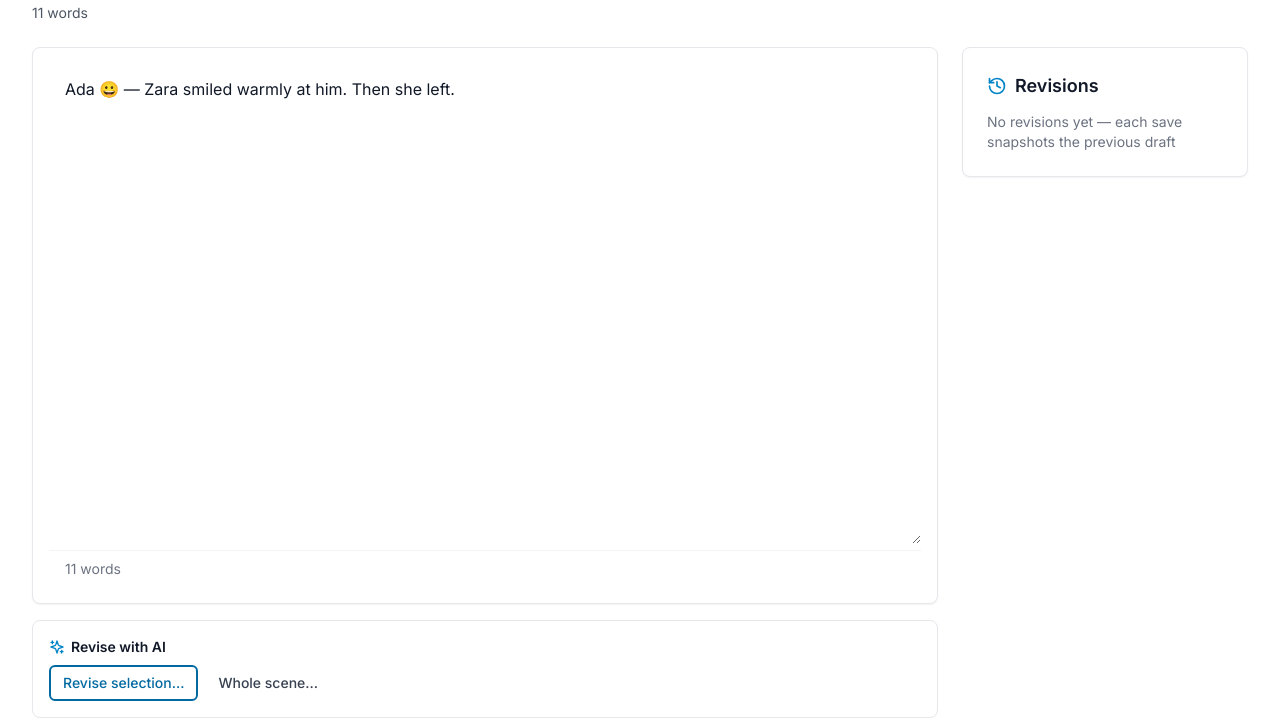
Test: Revise from the scene editor (SPEC-25, W2-3) › renders the server message for a stale base (409)
(page scrolled)
Click the button "Revise selection…" at x=124, y=683, box 49,665 -> 198,701
(page scrolled)
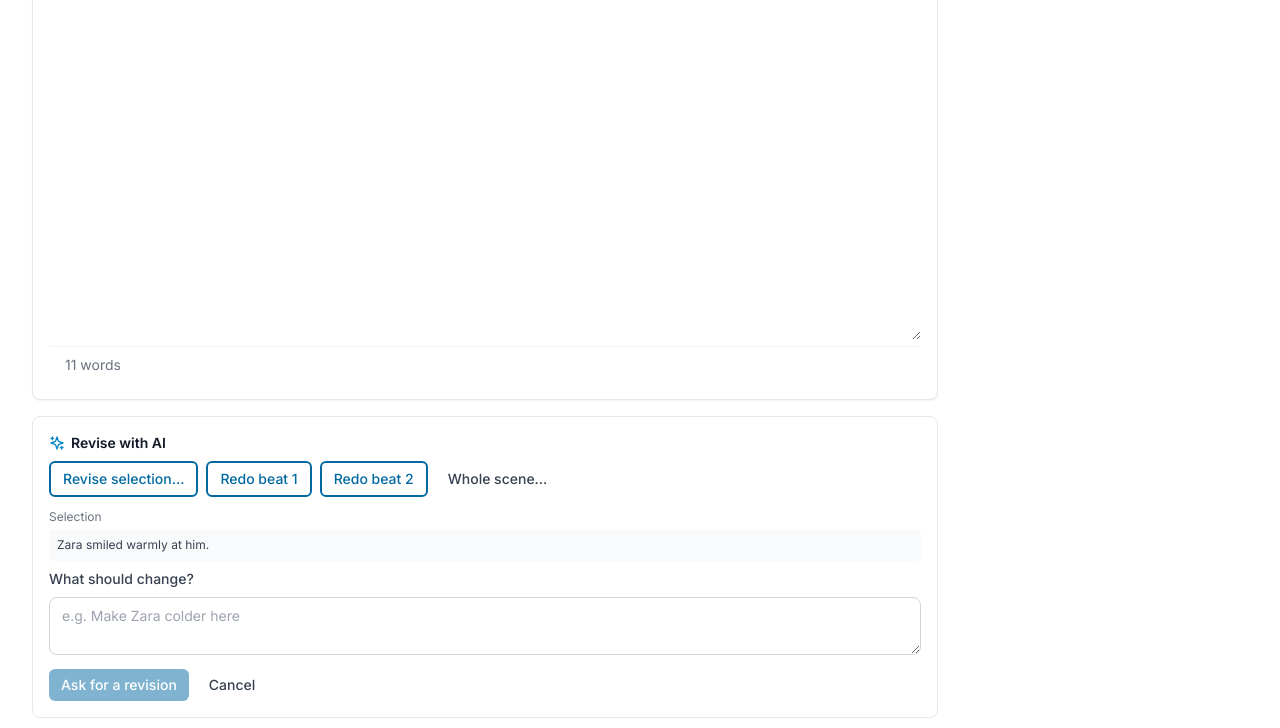
Type "Make Zara colder" into the text box labelled "What should change?" at x=485, y=626, box 49,597 -> 921,655
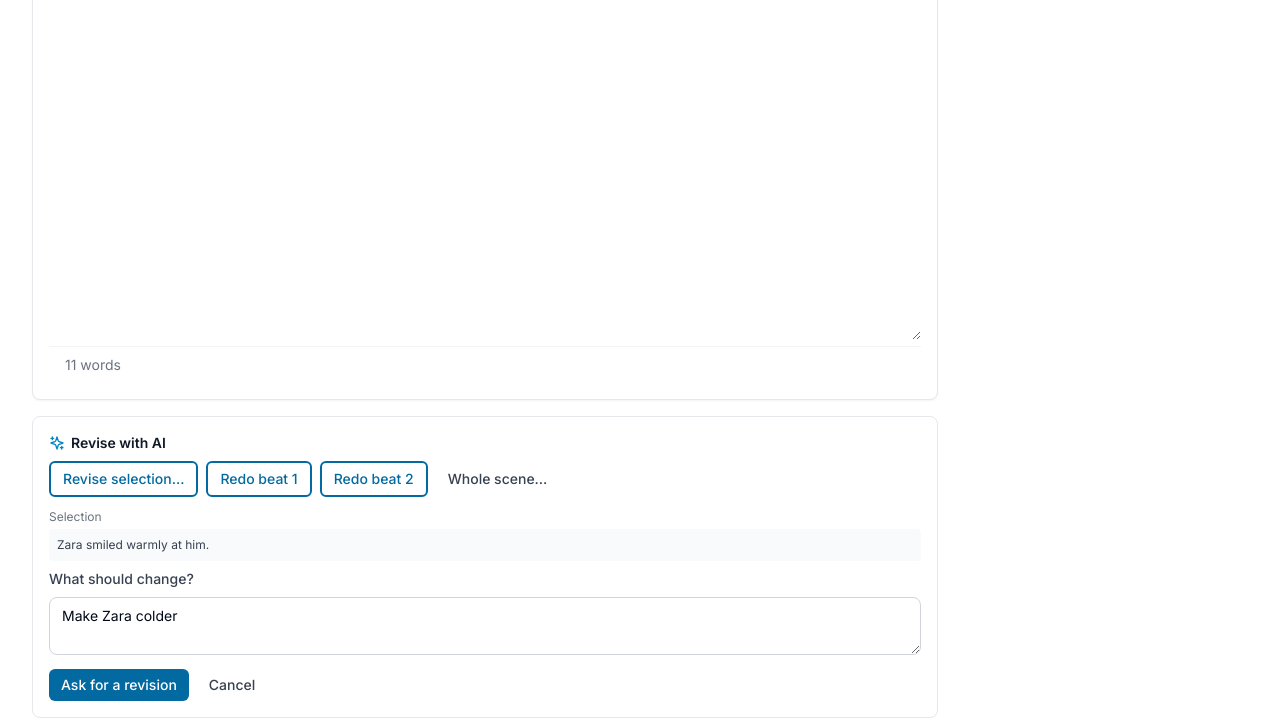
Click the button "Ask for a revision" at x=119, y=685, box 49,669 -> 189,701
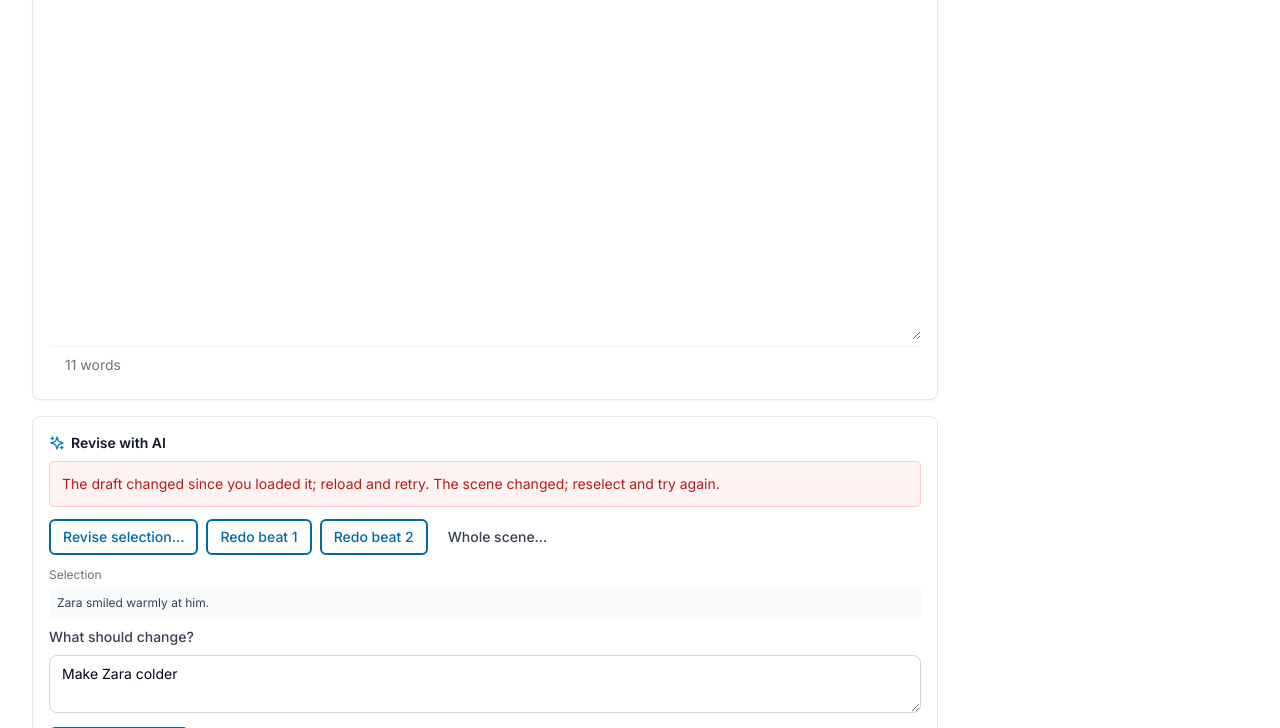
Now the message shows "The draft changed since you loaded it; reload and retry.", box 62,475 -> 720,492
Now the message shows "The scene changed; reselect and try again.", box 62,475 -> 720,492
